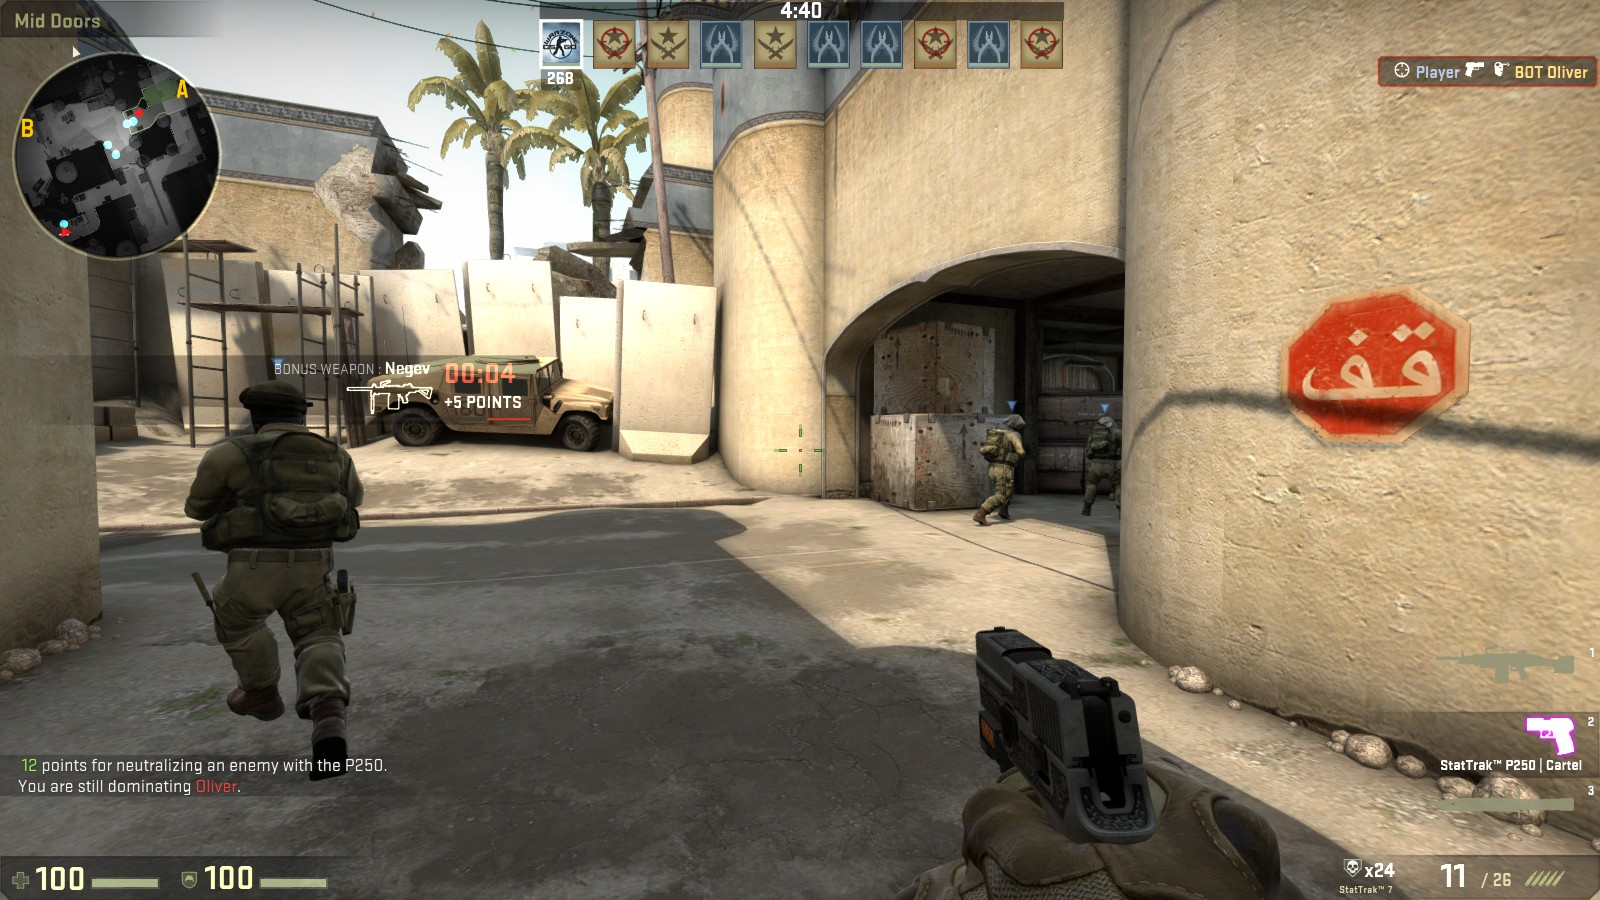c: (196, 381, 354, 767), (978, 409, 1024, 523), (1086, 415, 1123, 513)
ch: (229, 371, 318, 445), (999, 413, 1029, 430), (1095, 415, 1118, 431)
